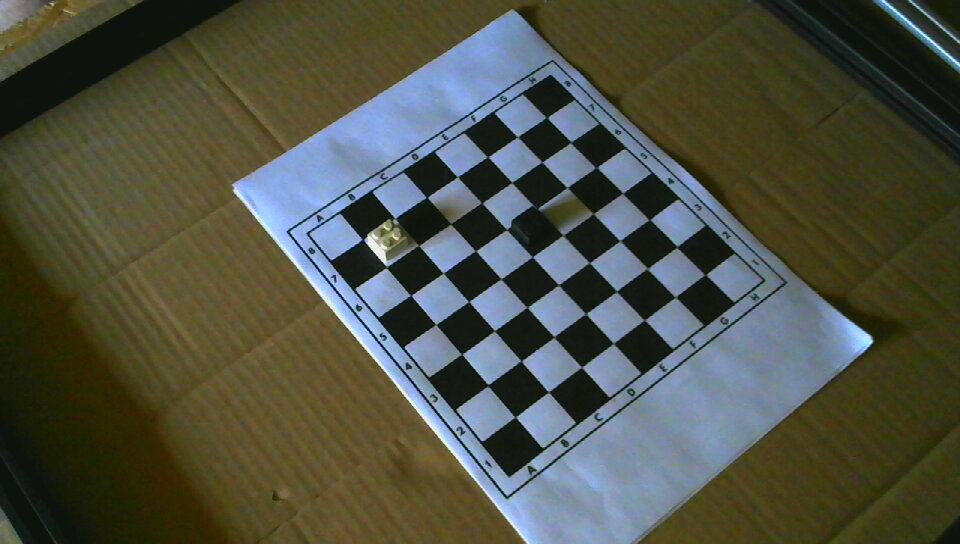bp: (510, 206, 553, 249)
wp: (367, 218, 411, 262)
